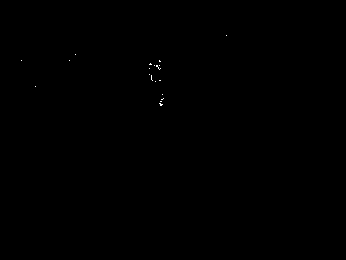person: (148, 59, 168, 108)
